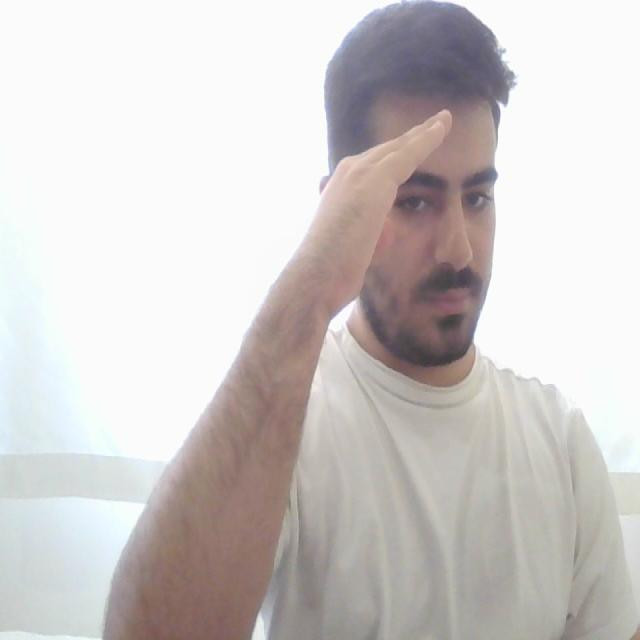Merhaba: (267, 92, 467, 359)
